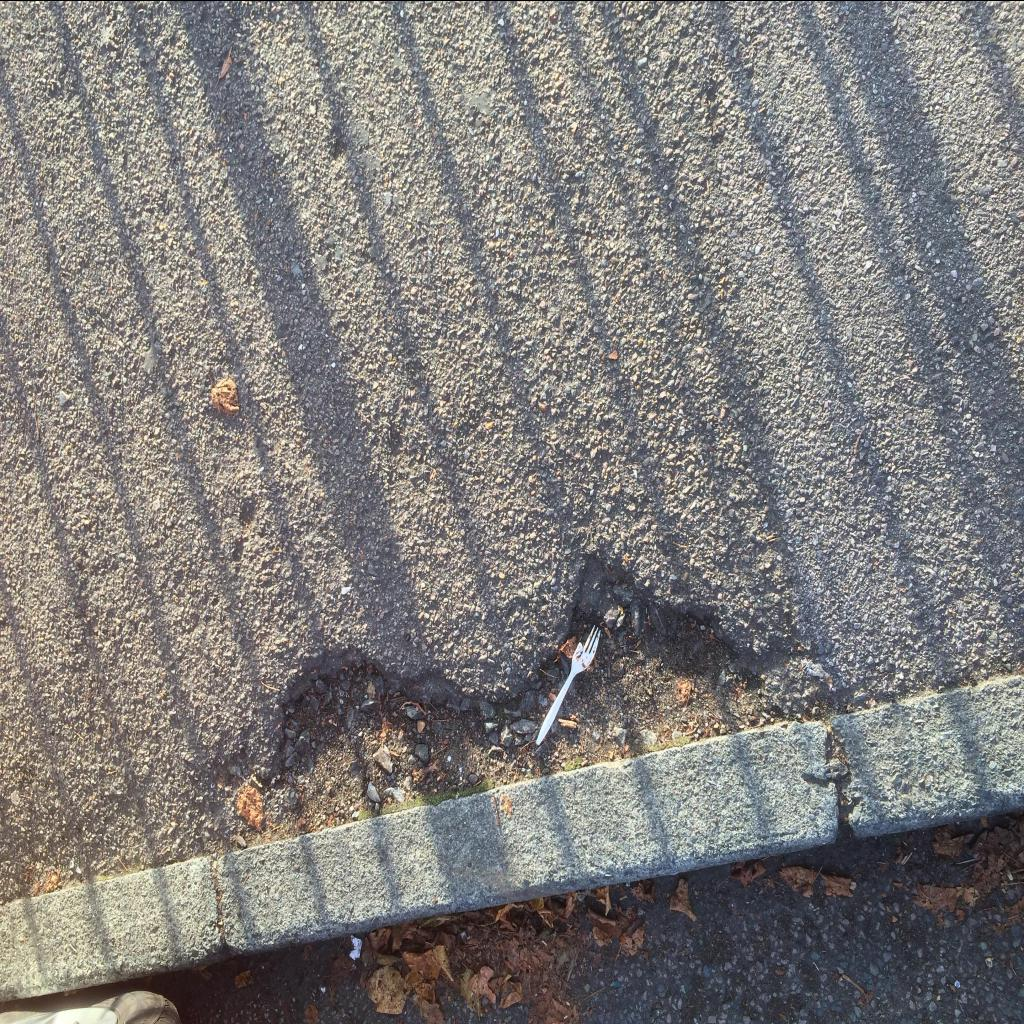Unlabeled litter: (348, 934, 362, 958)
